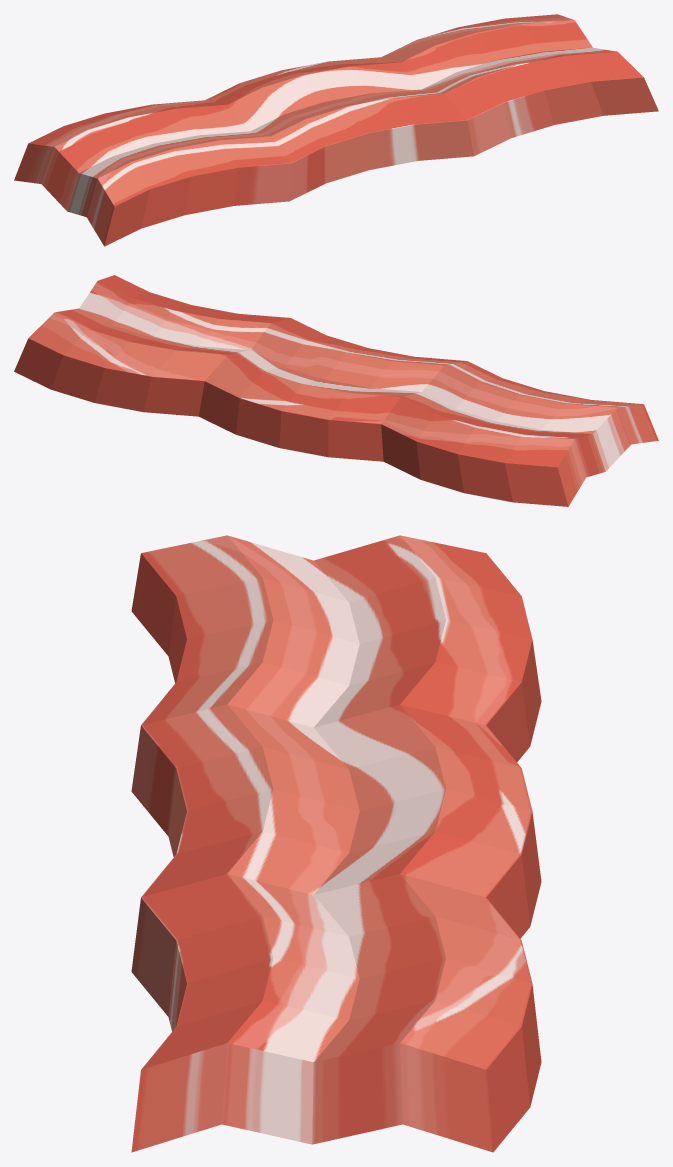
File: RawBacon.fbx
3 views of the same model, one above another, from view 1: azimuth 30°, elevation 25°; view 2: azimuth 150°, elevation 25°; view 3: azimuth 270°, elevation 25° (orthographic). The views are drawn at different scales.
Visible parts, largest first — view 1: Bacon; view 2: Bacon; view 3: Bacon.
Boxes of the visible parts, bbox=[...] form: Bacon: bbox=[14, 14, 658, 246]; Bacon: bbox=[14, 275, 658, 506]; Bacon: bbox=[131, 535, 541, 1152].
Size of the model in its own units: 110 by 8.79 by 35.21.
